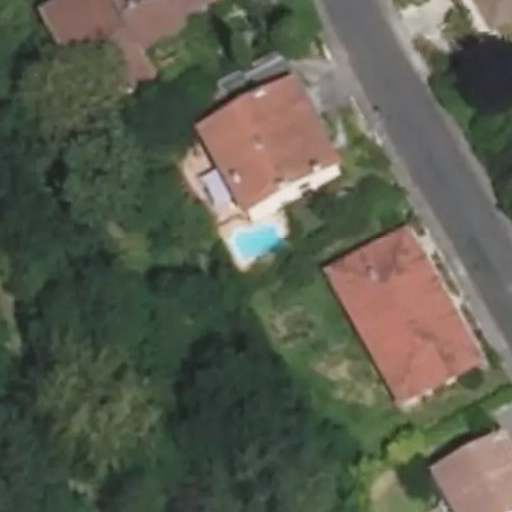pool: (229, 223, 283, 257)
